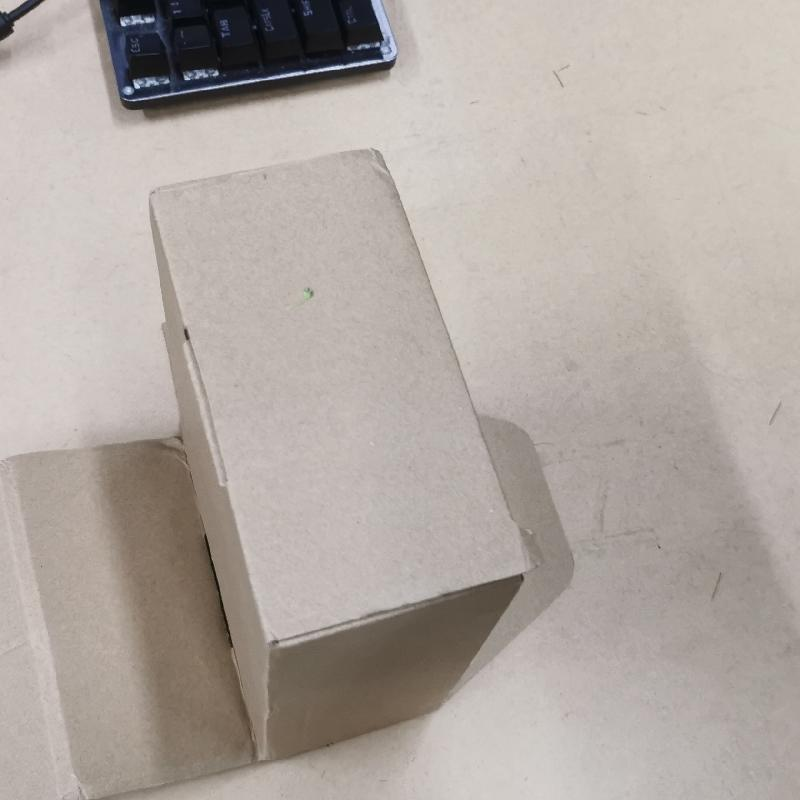boxes: (18, 149, 574, 800)
